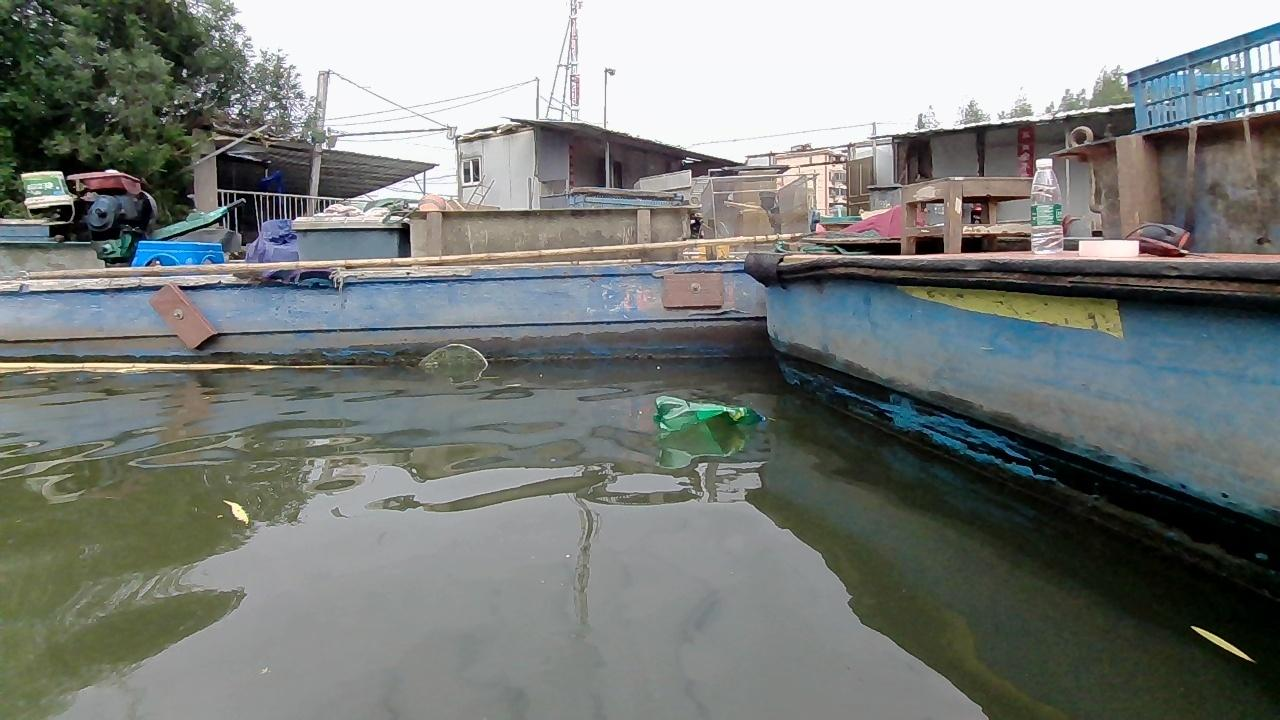bottle: (653, 396, 766, 437)
